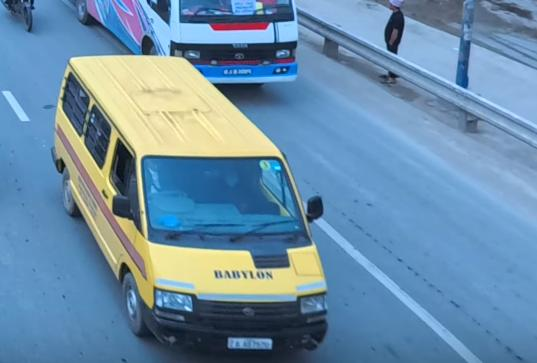bus: (73, 0, 304, 93)
school_bus: (54, 50, 336, 363)
